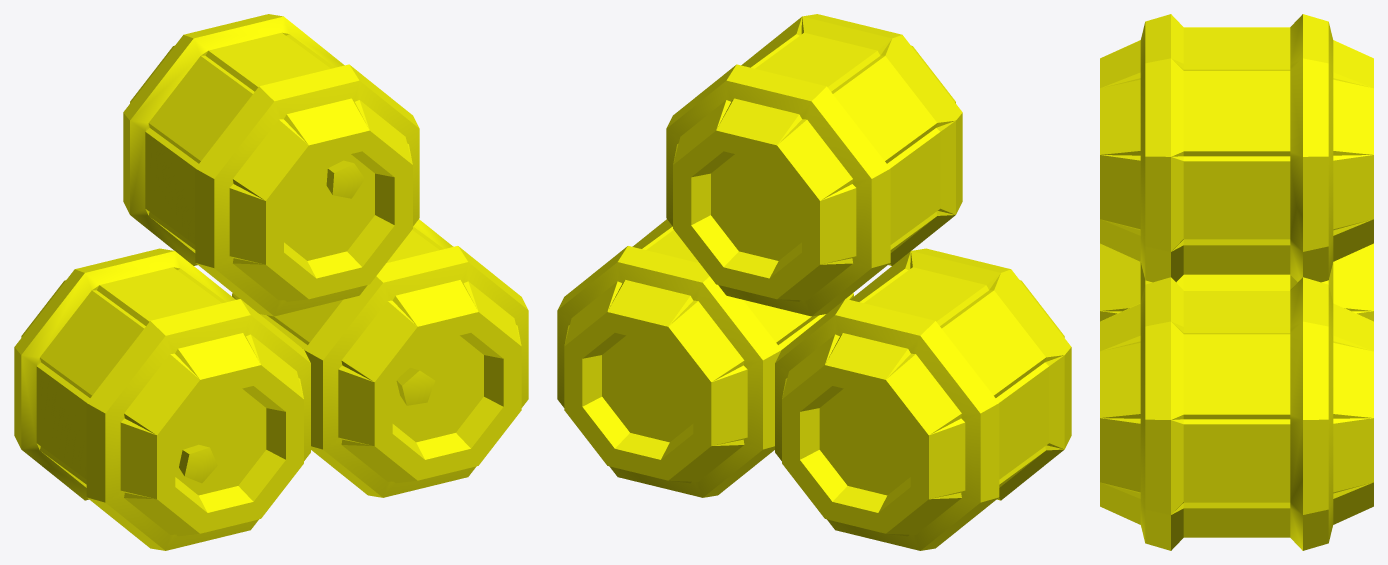
Rendered from kaykit-barrel-small-stack.glb.
The picture shows the model from 3 angles, left to right: view 1: azimuth 30°, elevation 25°; view 2: azimuth 150°, elevation 25°; view 3: azimuth 270°, elevation 25°; orthographic projection.
Parts seen in each view (by area): view 1: barrel_small_stack; view 2: barrel_small_stack; view 3: barrel_small_stack.
Part boxes in pixels (x1,y1,x2,y2): barrel_small_stack: (14,14,528,550); barrel_small_stack: (557,14,1071,550); barrel_small_stack: (1100,14,1373,550).
Bounding box in the file's own units: 1.85 × 1.77 × 1.
